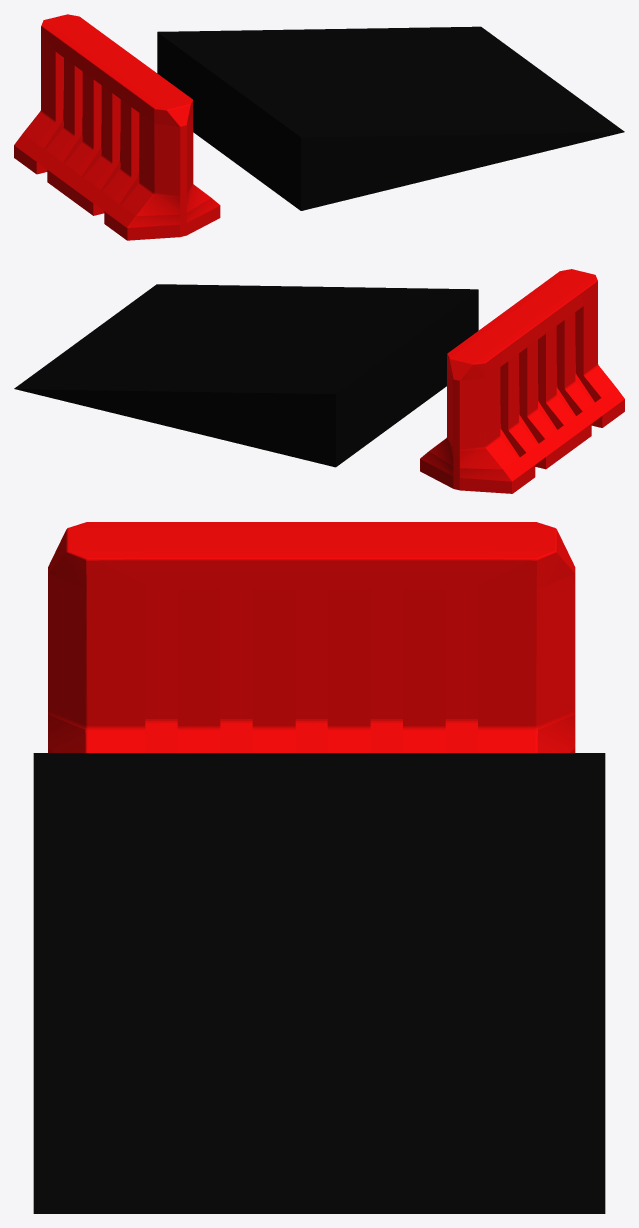
Rendered from spot5.glb.
The picture shows the model from 3 angles, top to bottom: view 1: azimuth 30°, elevation 25°; view 2: azimuth 150°, elevation 25°; view 3: azimuth 270°, elevation 25°; orthographic projection. The views are drawn at different scales.
Parts seen in each view (by area): view 1: LogoZone_1, barrier1, planogrande; view 2: LogoZone_1, barrier1, planogrande; view 3: LogoZone_1, barrier1.
Boxes of the visible parts, left/top/right/bottom form: LogoZone_1: left=158, top=26, right=624, bottom=136; barrier1: left=14, top=14, right=220, bottom=240; planogrande: left=157, top=32, right=624, bottom=210; LogoZone_1: left=14, top=284, right=477, bottom=393; barrier1: left=420, top=269, right=624, bottom=493; planogrande: left=14, top=289, right=478, bottom=467; LogoZone_1: left=33, top=753, right=605, bottom=1213; barrier1: left=48, top=522, right=575, bottom=752.
Size of the model in its own units: 2.34 by 0.579 by 1.2.
